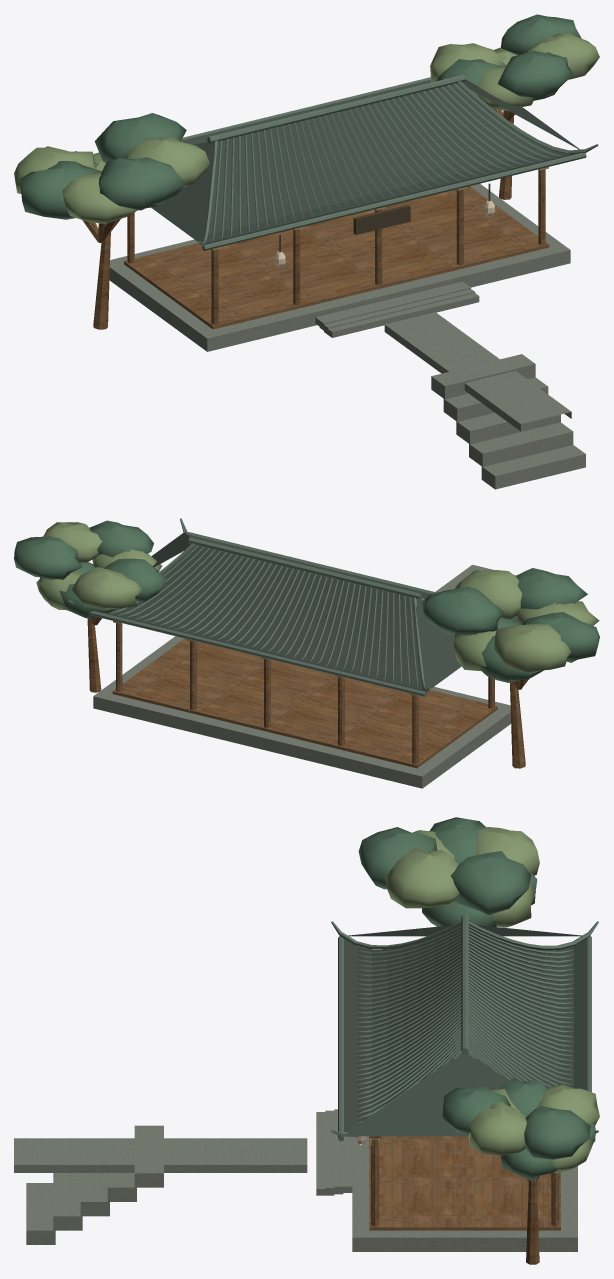
File: tubishanzhuang.glb
3 views of the same model, one above another, from view 1: azimuth 30°, elevation 25°; view 2: azimuth 150°, elevation 25°; view 3: azimuth 270°, elevation 25° (orthographic). The views are drawn at different scales.
Parts seen in each view (by area): view 1: tubishanzhuang_stone, tubishanzhuang_wood, tubishanzhuang_roof, tubishanzhuang_tile, tubishanzhuang_leaf, tubishanzhuang_lightleaf, tubishanzhuang_darkwood; view 2: tubishanzhuang_wood, tubishanzhuang_roof, tubishanzhuang_leaf, tubishanzhuang_tile, tubishanzhuang_lightleaf, tubishanzhuang_stone; view 3: tubishanzhuang_roof, tubishanzhuang_tile, tubishanzhuang_stone, tubishanzhuang_wood, tubishanzhuang_leaf, tubishanzhuang_lightleaf.
Part boxes in pixels (box(x1,y1,x2,y2)): tubishanzhuang_stone: box(109, 183, 585, 489); tubishanzhuang_wood: box(82, 109, 549, 329); tubishanzhuang_roof: box(151, 79, 579, 244); tubishanzhuang_tile: box(75, 74, 598, 250); tubishanzhuang_leaf: box(20, 14, 581, 219); tubishanzhuang_lightleaf: box(14, 33, 599, 223); tubishanzhuang_darkwood: box(279, 183, 490, 252); tubishanzhuang_wood: box(87, 617, 528, 768); tubishanzhuang_roof: box(105, 532, 517, 691); tubishanzhuang_leaf: box(14, 520, 599, 682); tubishanzhuang_tile: box(68, 518, 436, 696); tubishanzhuang_lightleaf: box(36, 522, 599, 673); tubishanzhuang_stone: box(93, 564, 516, 788); tubishanzhuang_roof: box(344, 925, 586, 1136); tubishanzhuang_tile: box(331, 914, 598, 1141); tubishanzhuang_stone: box(14, 1109, 577, 1251); tubishanzhuang_wood: box(369, 1136, 560, 1264); tubishanzhuang_leaf: box(358, 817, 595, 1181); tubishanzhuang_lightleaf: box(385, 827, 599, 1173).
Bounding box in the file's own units: 32.96 × 13.1 × 25.98.
Materials: 9 (2 with a texture image).
